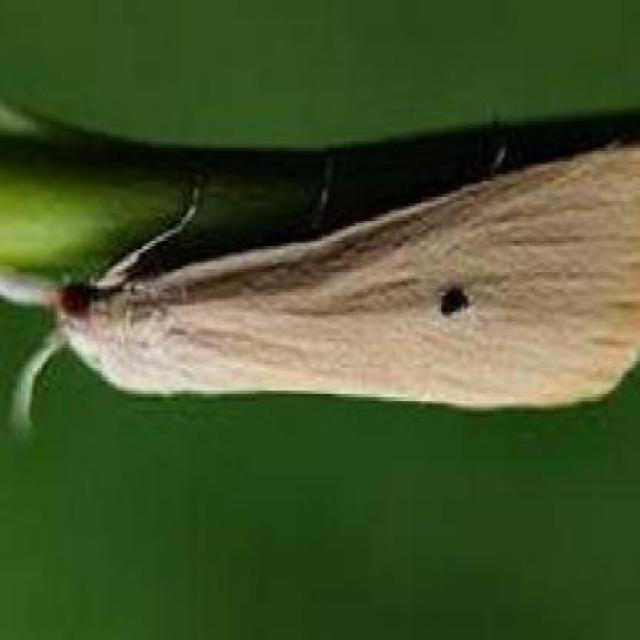stem-borer: (0, 133, 640, 439)
